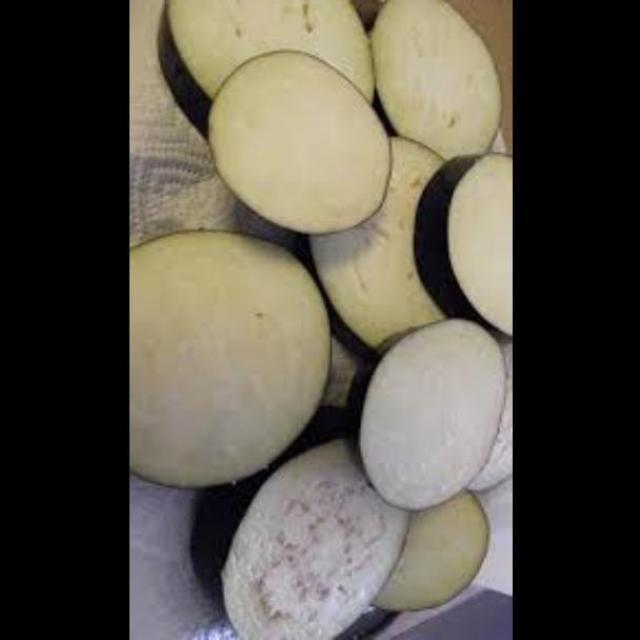eggplant: (135, 222, 330, 500), (206, 421, 417, 640), (290, 124, 464, 363), (343, 322, 510, 522), (214, 49, 398, 230), (160, 0, 380, 144), (367, 0, 513, 168), (409, 144, 513, 361), (370, 486, 498, 623)
